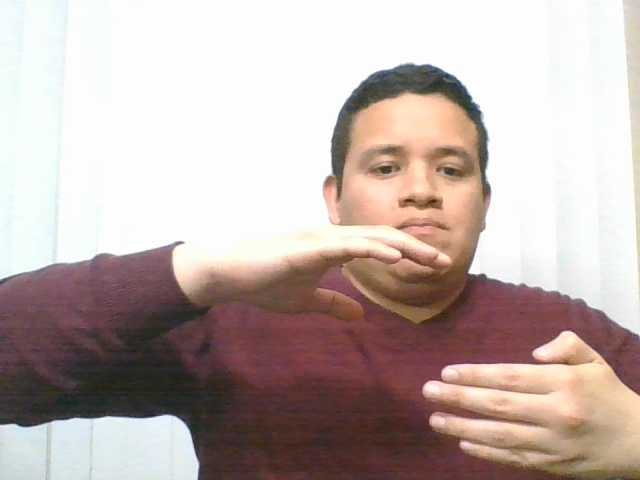To Study: (135, 203, 633, 475)
